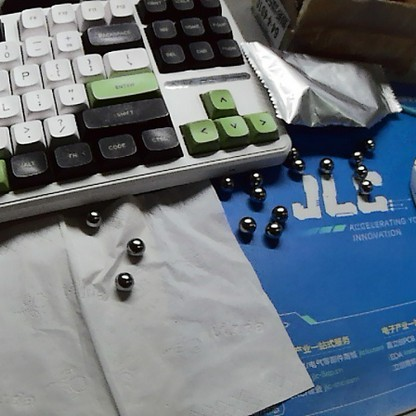ironball: (112, 268, 140, 297), (262, 202, 291, 226), (122, 238, 148, 262), (317, 153, 338, 179), (236, 214, 258, 238), (356, 176, 375, 195), (287, 159, 306, 176), (85, 210, 104, 225), (266, 222, 286, 236), (347, 147, 363, 164), (249, 170, 266, 186), (220, 172, 236, 188), (251, 187, 266, 203), (353, 164, 369, 179), (286, 142, 301, 158), (364, 133, 377, 151)
